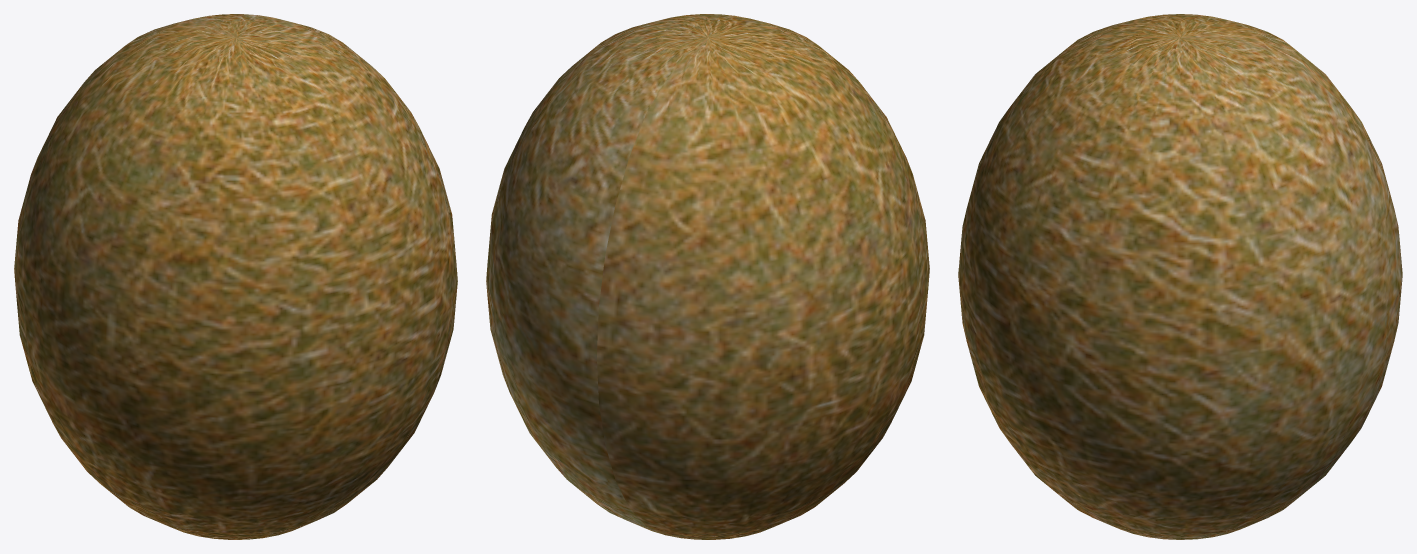
Rendered from Kiwi1.fbx.
3 views of the same model, side by side, from view 1: azimuth 30°, elevation 25°; view 2: azimuth 150°, elevation 25°; view 3: azimuth 270°, elevation 25° (orthographic).
Parts seen in each view (by area): view 1: Kiwi1; view 2: Kiwi1; view 3: Kiwi1.
Boxes of the visible parts, x1=… form: Kiwi1: x1=14, y1=14, x2=457, y2=539; Kiwi1: x1=486, y1=14, x2=929, y2=539; Kiwi1: x1=958, y1=14, x2=1402, y2=539.
Bounding box in the file's own units: 1.6 × 1.89 × 1.6.
1 material, 1 textured.
